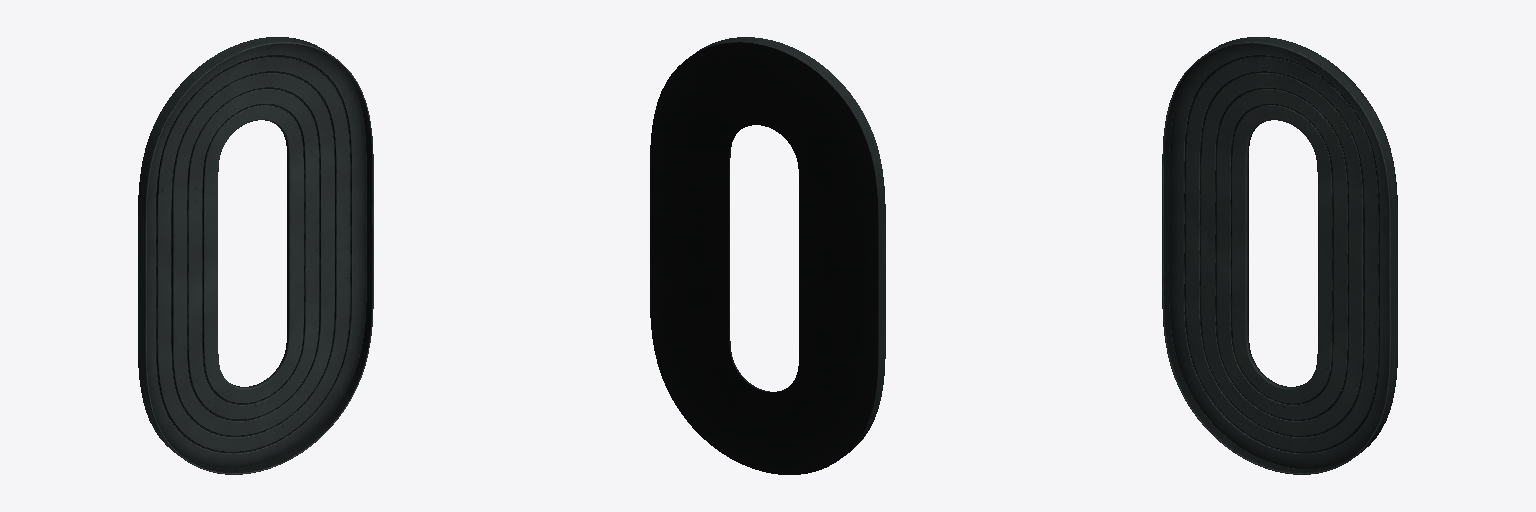
The picture shows the model from 3 angles: view 1: azimuth 30°, elevation 25°; view 2: azimuth 150°, elevation 25°; view 3: azimuth 330°, elevation 25°; orthographic projection.
Parts seen in each view (by area): view 1: 10605_Slot_Car_Race_Track_v1; view 2: 10605_Slot_Car_Race_Track_v1; view 3: 10605_Slot_Car_Race_Track_v1.
Part boxes in pixels (x1,y1,x2,y2): 10605_Slot_Car_Race_Track_v1: (138,37,373,474); 10605_Slot_Car_Race_Track_v1: (650,37,885,474); 10605_Slot_Car_Race_Track_v1: (1162,37,1397,474).
Bounding box in the file's own units: 68 × 121 × 3.98.
Materials: 1 (1 with a texture image).